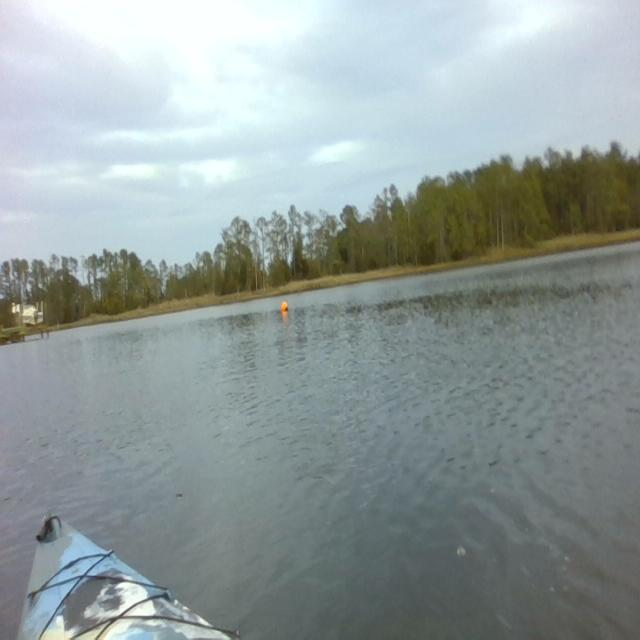Buoy: (280, 300, 290, 316)
